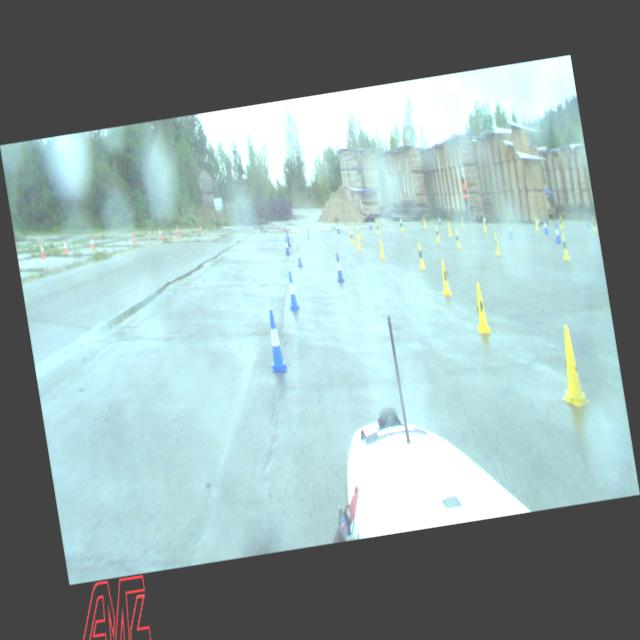blue_cone: (262, 309, 288, 373), (284, 272, 300, 310), (333, 252, 345, 284), (294, 244, 302, 267), (554, 224, 562, 244), (283, 237, 290, 255), (542, 218, 548, 234), (286, 232, 291, 247), (336, 222, 341, 234), (306, 227, 310, 240), (368, 218, 372, 230), (438, 214, 442, 225)
orange_cone: (40, 244, 46, 258), (63, 240, 68, 253), (90, 237, 94, 249), (132, 232, 136, 244), (159, 229, 162, 239), (177, 226, 180, 235), (199, 225, 202, 232)
yellow_cone: (552, 324, 590, 409), (471, 282, 492, 335), (438, 259, 452, 296), (415, 242, 426, 270), (560, 233, 570, 260), (492, 232, 502, 256), (378, 238, 386, 260), (454, 230, 461, 248), (348, 229, 354, 245), (434, 226, 440, 242), (356, 234, 362, 250), (590, 215, 596, 231), (446, 221, 452, 235), (482, 218, 488, 232), (398, 218, 403, 231), (376, 222, 381, 234), (357, 226, 361, 239), (534, 217, 538, 230), (422, 218, 427, 228), (558, 216, 562, 228)
